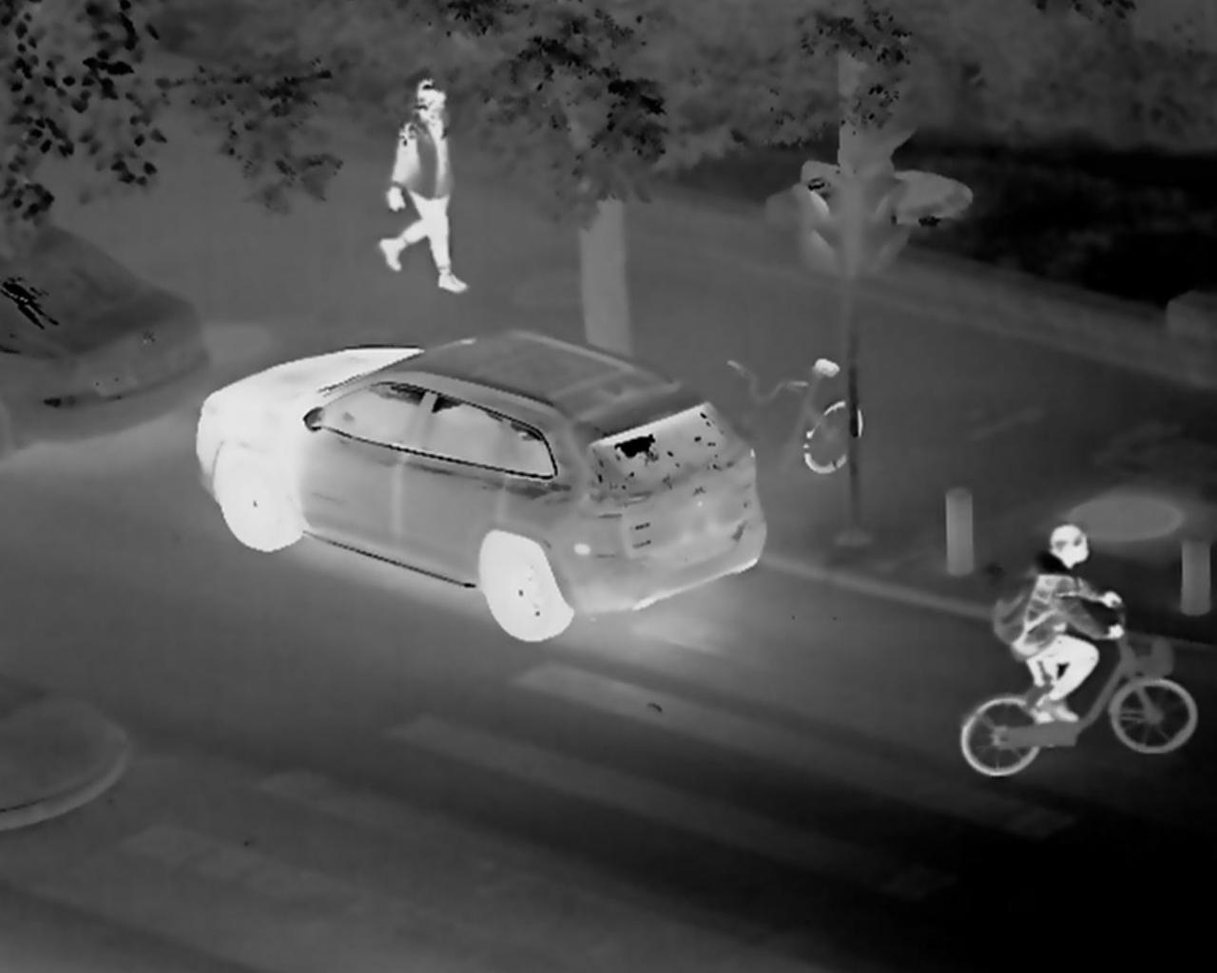person: (988, 523, 1127, 748), (375, 77, 470, 297)
